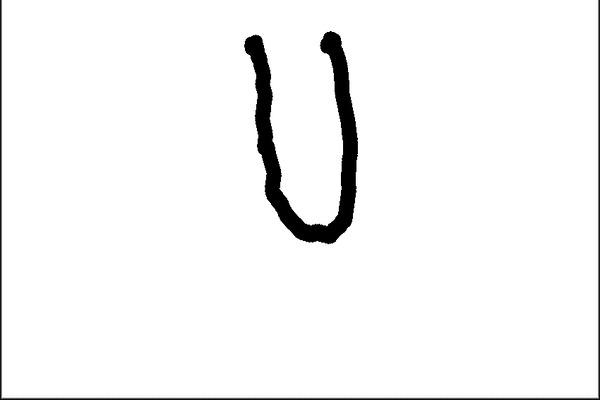U: (228, 27, 384, 251)
